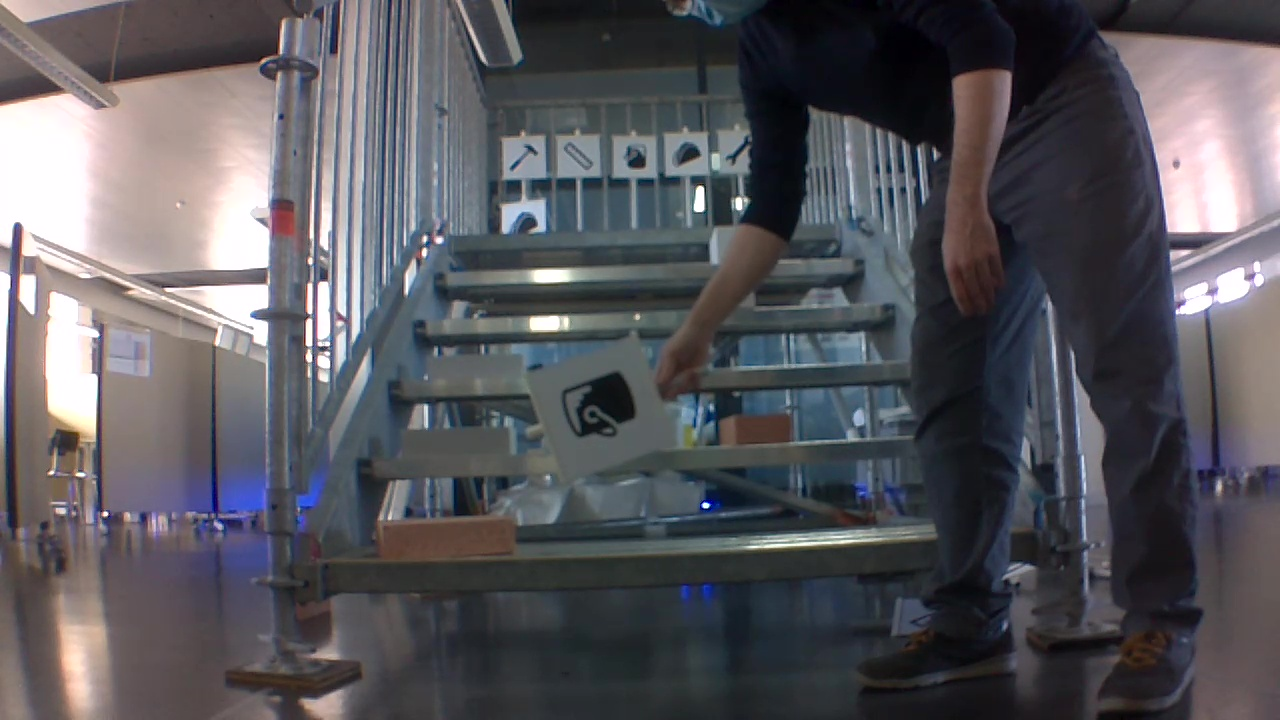brick: (378, 514, 515, 556), (402, 429, 515, 461), (426, 355, 524, 384), (720, 413, 790, 443)
bucket: (557, 371, 638, 439), (618, 139, 650, 170)
edge: (323, 530, 1038, 591)
hammer: (503, 140, 541, 176)
ruler: (560, 140, 596, 172)
taco: (504, 208, 541, 236), (669, 141, 703, 169)
